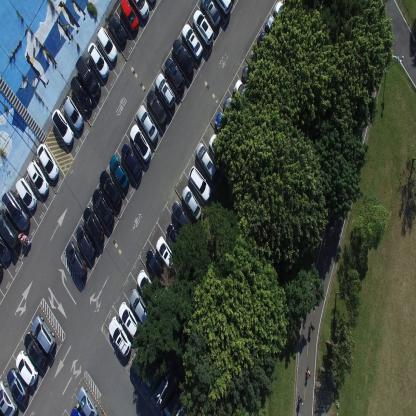car: (1, 189, 30, 232), (75, 53, 101, 98), (108, 315, 132, 358), (91, 186, 114, 228), (36, 141, 60, 181), (136, 269, 160, 308), (196, 141, 218, 183), (99, 168, 122, 208), (118, 300, 141, 340), (32, 315, 56, 353), (129, 122, 151, 163), (24, 329, 46, 370), (51, 107, 74, 146), (82, 204, 104, 244), (172, 37, 194, 77), (66, 241, 88, 281), (26, 159, 49, 197), (136, 104, 158, 143), (129, 288, 151, 327), (70, 74, 92, 113), (188, 165, 211, 202), (120, 142, 142, 180), (108, 152, 130, 190), (154, 72, 176, 110), (192, 8, 214, 46), (87, 41, 109, 79), (15, 350, 38, 386), (181, 23, 203, 60), (6, 367, 28, 404), (146, 89, 167, 127), (170, 201, 192, 237), (96, 26, 118, 62), (62, 94, 84, 130), (0, 208, 20, 247), (164, 56, 185, 93), (14, 177, 36, 212), (181, 184, 201, 222), (156, 236, 177, 272), (145, 248, 166, 284), (233, 78, 255, 112), (76, 223, 96, 260), (214, 111, 234, 146), (0, 378, 18, 416), (242, 64, 262, 98), (107, 12, 127, 46), (223, 95, 244, 127), (200, 0, 222, 30), (119, 0, 139, 33), (273, 0, 294, 31), (166, 223, 184, 257), (258, 32, 278, 62), (266, 14, 286, 44), (78, 386, 98, 416), (208, 134, 227, 164), (0, 231, 13, 262), (131, 0, 149, 20), (214, 0, 233, 16), (70, 405, 85, 415), (0, 262, 4, 278)
